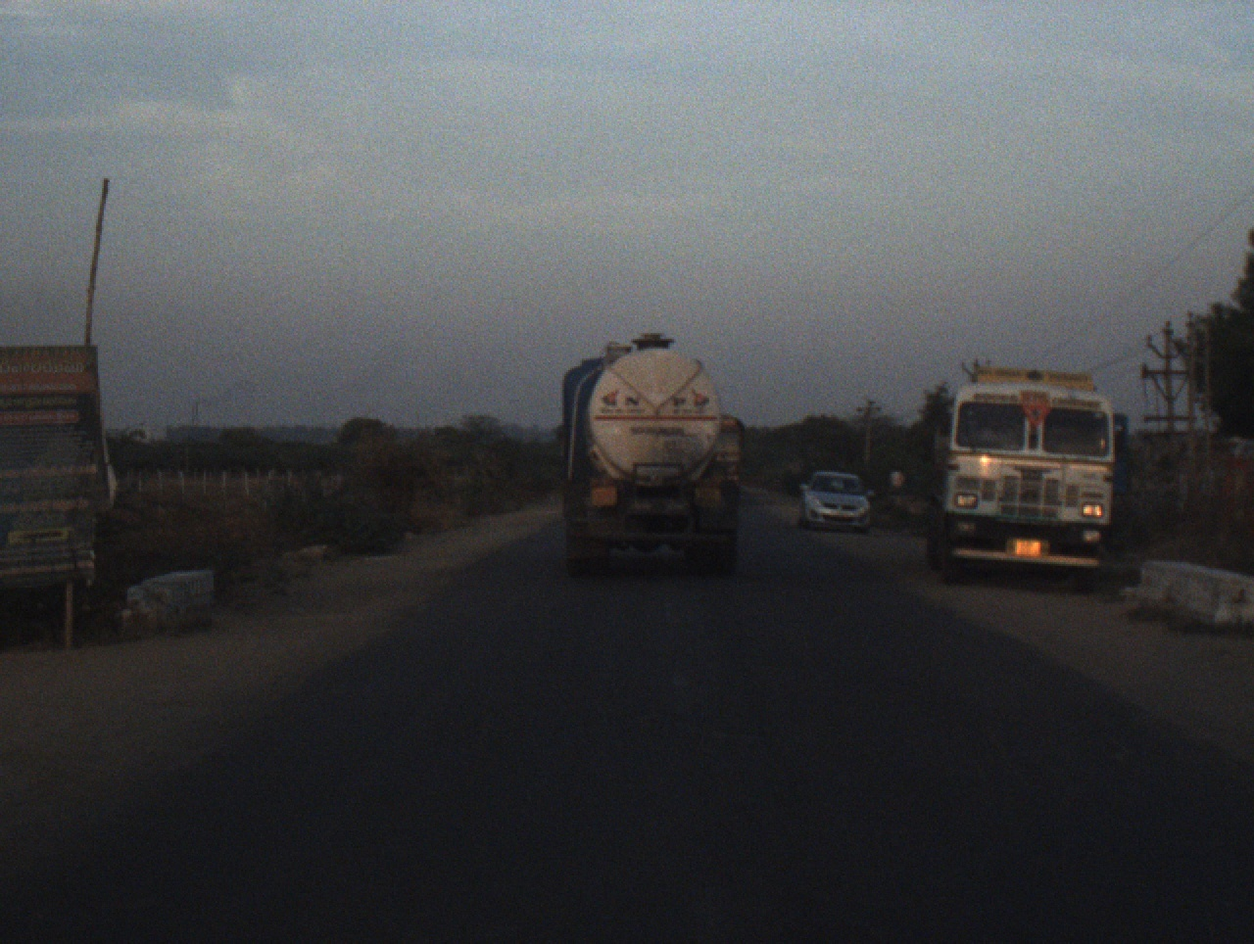car: (797, 465, 878, 531)
person: (888, 468, 899, 497)
truck: (551, 325, 751, 589), (925, 364, 1134, 591), (1, 341, 115, 641)
